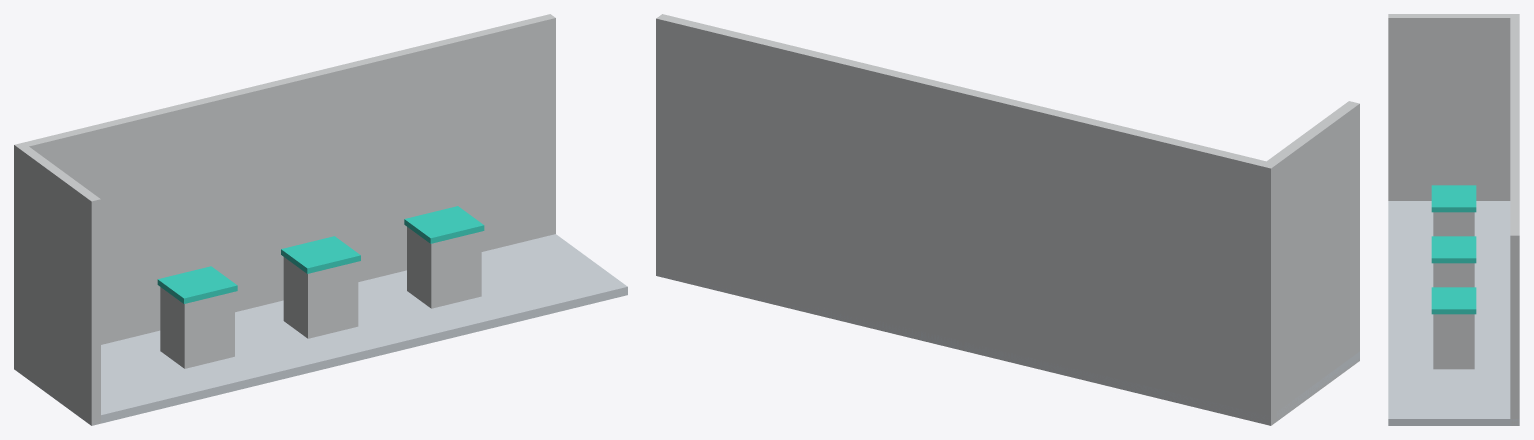
The picture shows the model from 3 angles, left to right: view 1: azimuth 30°, elevation 25°; view 2: azimuth 150°, elevation 25°; view 3: azimuth 270°, elevation 25°; orthographic projection. The views are drawn at different scales.
Parts seen in each view (by area): view 1: Exhibition Booth Concept; view 2: Exhibition Booth Concept; view 3: Exhibition Booth Concept.
Part boxes in pixels (left/top/right/bottom): Exhibition Booth Concept: left=14, top=14, right=627, bottom=425; Exhibition Booth Concept: left=656, top=14, right=1359, bottom=425; Exhibition Booth Concept: left=1388, top=14, right=1519, bottom=425.
Bounding box in the file's own units: 8 × 3.2 × 2.
